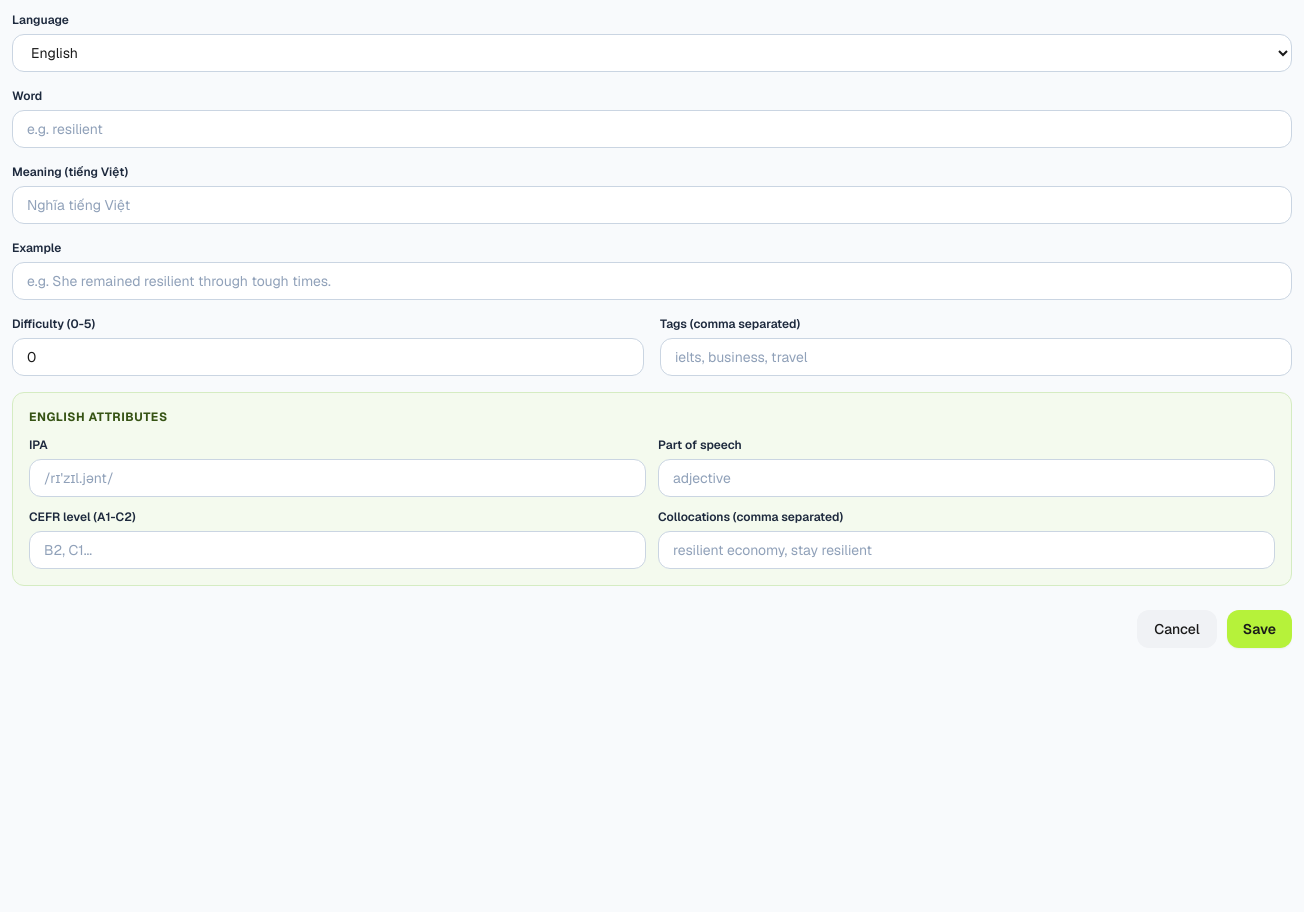
Test: VocabularyForm › switches to Chinese-specific fields when Chinese is selected
The width and height of the screenshot is (1304, 912).
Select "Chinese" in the dropdown at (652, 53), box left=12, top=34, right=1292, bottom=72
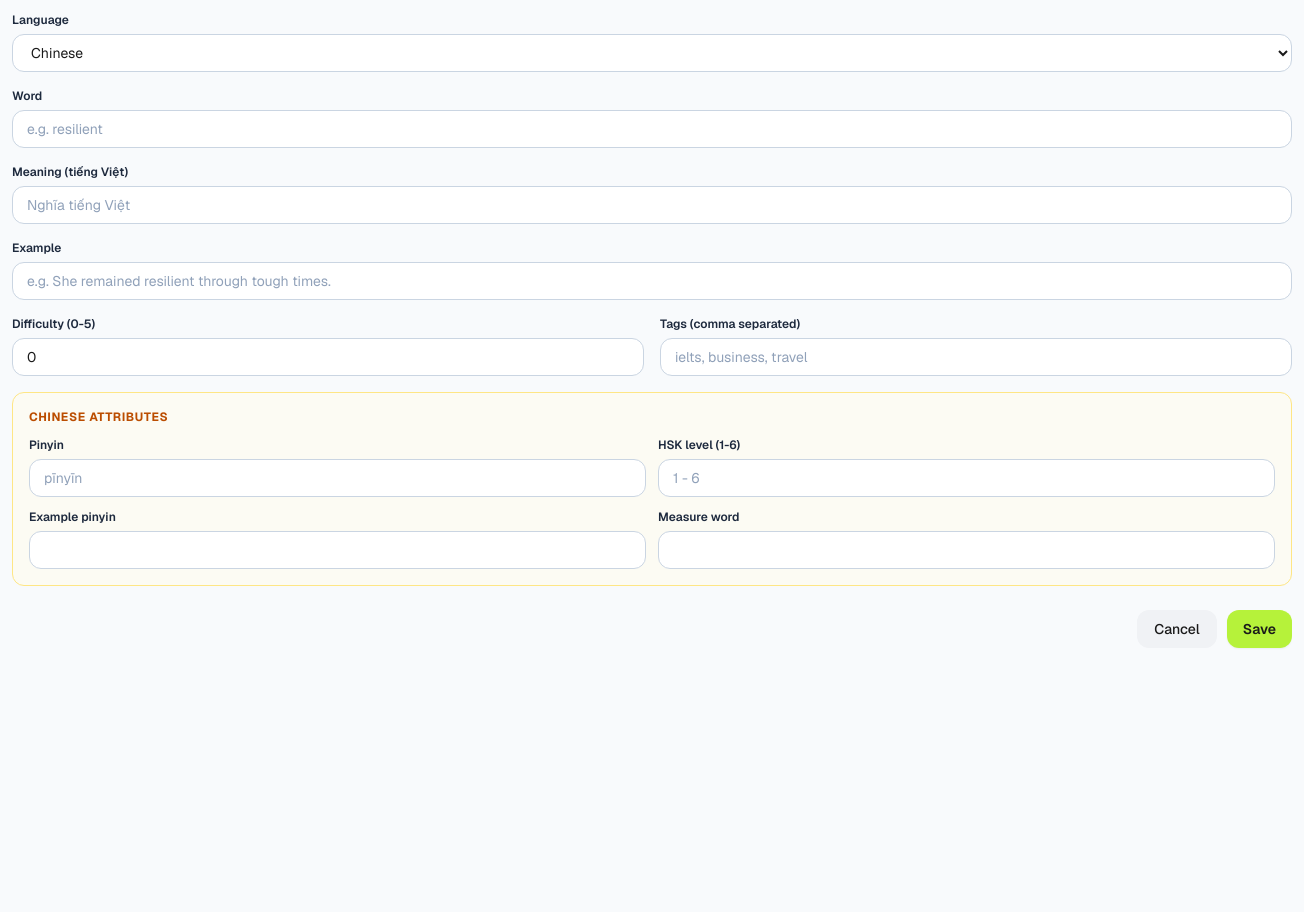
Expected: the text "Pinyin" is shown, left=29, top=437, right=64, bottom=453
Expected: the text "HSK level (1-6)" is shown, left=658, top=437, right=740, bottom=453
Expected: the text "IPA" is gone
